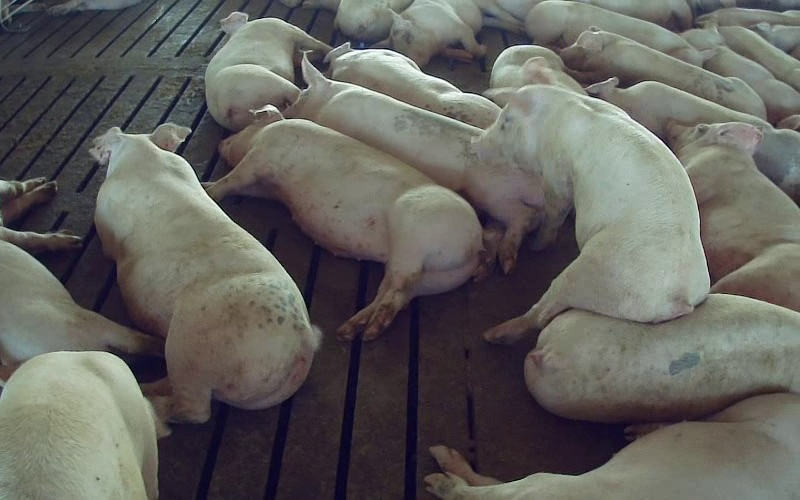pig: (90, 123, 319, 421), (476, 56, 709, 342), (207, 105, 483, 340), (284, 59, 543, 271), (426, 395, 799, 499), (525, 294, 799, 421), (586, 78, 799, 204), (667, 122, 799, 310), (0, 351, 157, 499), (560, 27, 765, 118), (324, 42, 499, 128), (205, 12, 331, 130), (524, 0, 712, 66), (680, 26, 799, 123), (377, 0, 485, 66)
